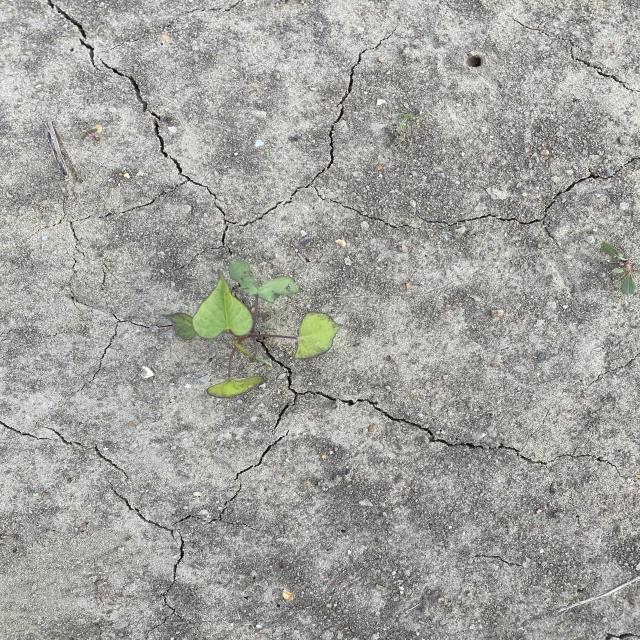MorningGlory: (157, 257, 346, 400)
